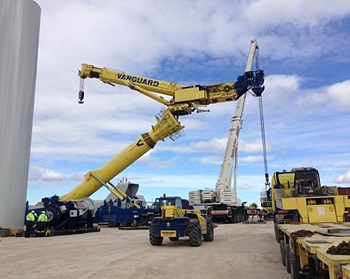crane: (194, 31, 270, 220)
